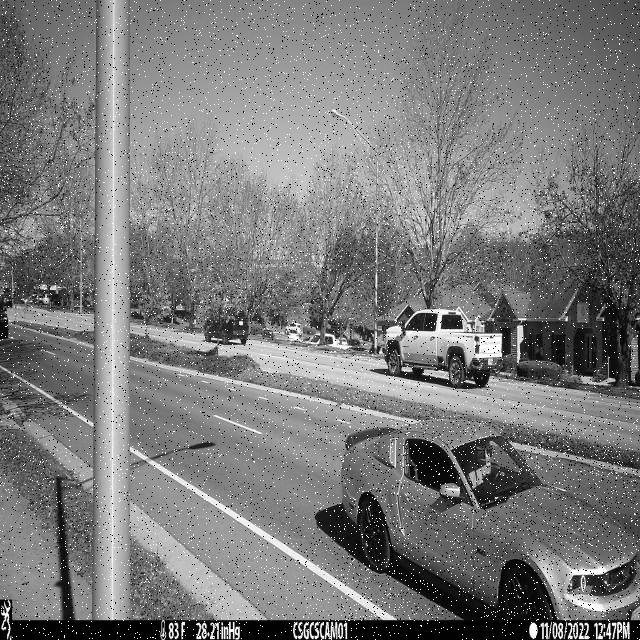Sedan: (341, 420, 640, 621)
